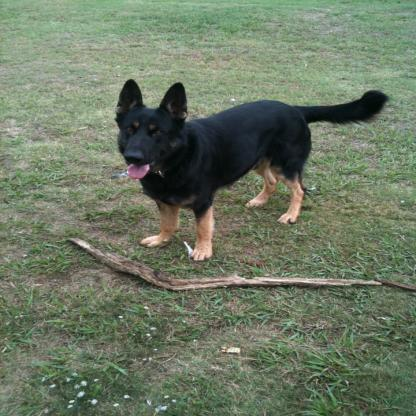german shepherd: (113, 79, 393, 251)
